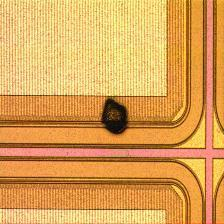PARTICLE: (92, 90, 144, 142)
